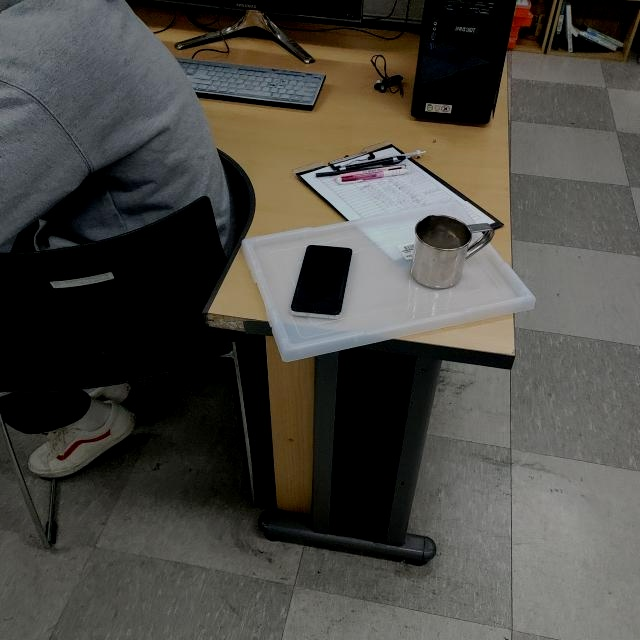cup: (409, 214, 497, 291)
phone: (289, 244, 357, 319)
